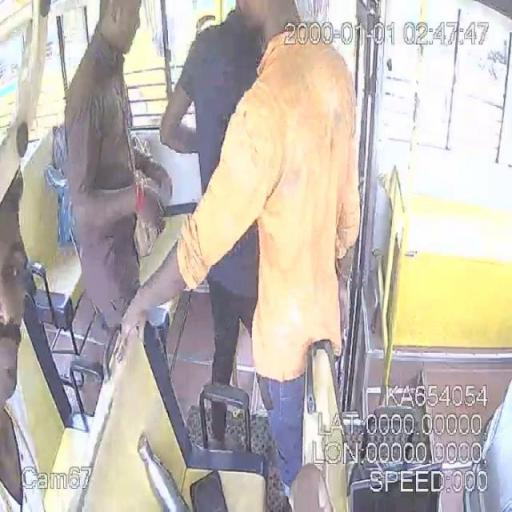persona: (119, 0, 361, 506), (156, 0, 262, 447), (62, 0, 174, 388), (0, 161, 51, 512)
